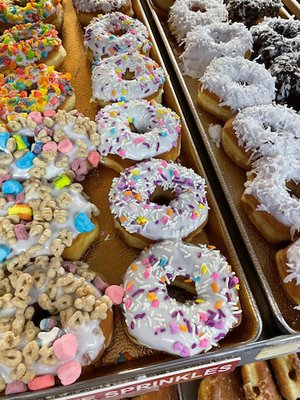salad: (121, 239, 241, 357), (108, 159, 210, 250), (0, 177, 102, 266), (95, 99, 182, 172), (239, 153, 300, 245), (196, 55, 276, 123), (0, 62, 77, 132), (221, 104, 300, 172), (180, 21, 254, 78), (92, 51, 165, 107), (83, 12, 152, 67), (0, 22, 66, 72), (167, 0, 229, 51), (0, 0, 64, 33), (271, 351, 300, 400)
